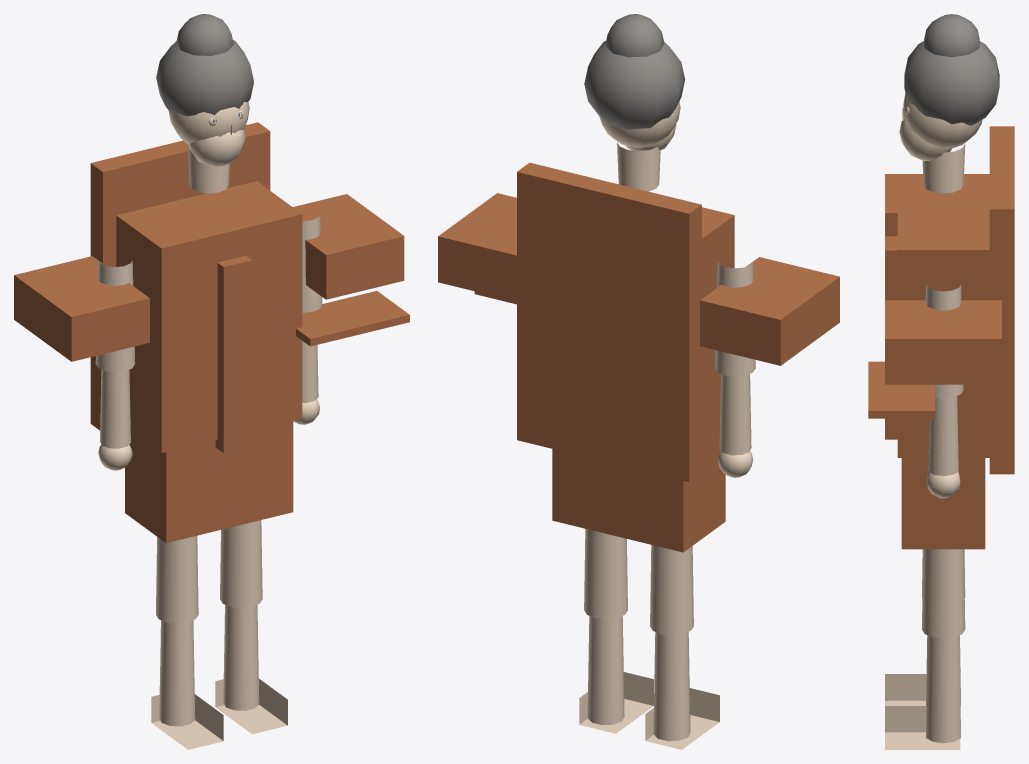
The model's file is body.glb.
3 views of the same model, side by side, from view 1: azimuth 30°, elevation 25°; view 2: azimuth 150°, elevation 25°; view 3: azimuth 270°, elevation 25° (orthographic). The views are drawn at different scales.
Parts seen in each view (by area): view 1: Cloth, Skin, Hair; view 2: Cloth, Skin, Hair; view 3: Cloth, Skin, Hair.
Boxes of the visible parts, <box> form: Cloth: <box>14,122,409,542</box>; Skin: <box>95,101,322,749</box>; Hair: <box>156,14,253,116</box>; Cloth: <box>438,162,839,552</box>; Skin: <box>579,101,755,749</box>; Hair: <box>584,14,685,129</box>; Cloth: <box>868,126,1014,549</box>; Skin: <box>885,93,982,749</box>; Hair: <box>904,14,999,125</box>.
Bounding box in the file's own units: 0.9355 × 1.87 × 0.35.
